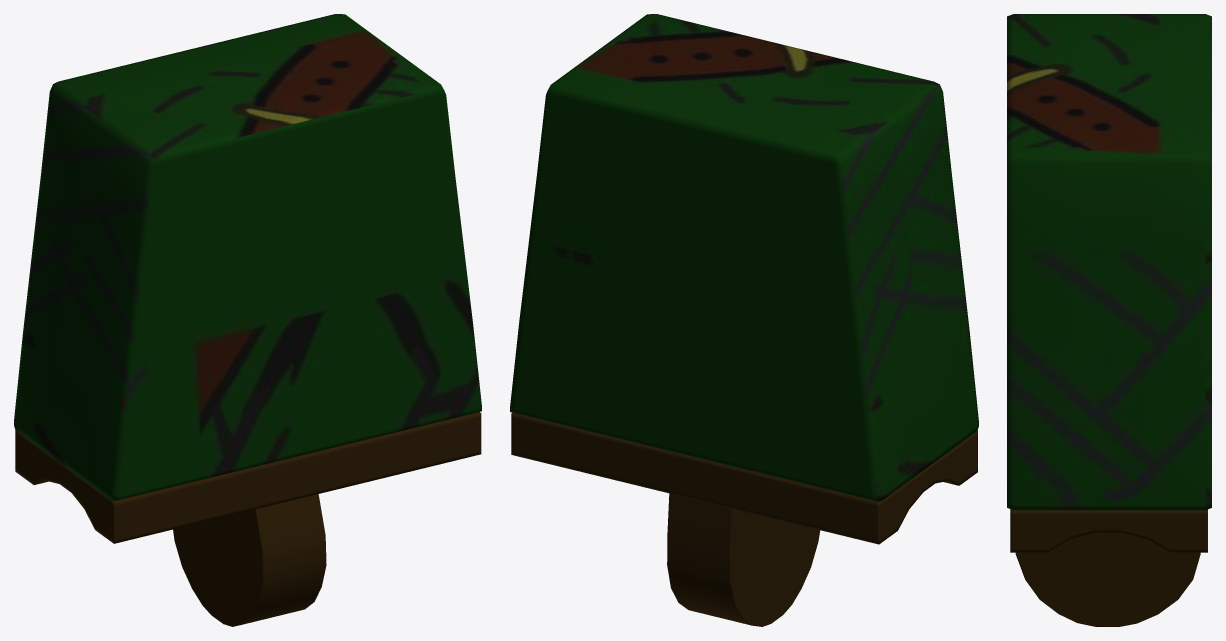
The model's file is elfo_pecho.obj.
3 renders of one model, left to right at view 1: azimuth 30°, elevation 25°; view 2: azimuth 150°, elevation 25°; view 3: azimuth 270°, elevation 25°, orthographic.
Visible parts, largest first — view 1: Mesh_Default.005_Mesh_Default.007; view 2: Mesh_Default.005_Mesh_Default.007; view 3: Mesh_Default.005_Mesh_Default.007.
Boxes of the visible parts, left/top/right/bottom form: Mesh_Default.005_Mesh_Default.007: left=14, top=14, right=481, bottom=626; Mesh_Default.005_Mesh_Default.007: left=510, top=14, right=978, bottom=626; Mesh_Default.005_Mesh_Default.007: left=1007, top=14, right=1211, bottom=626.
Bounding box in the file's own units: 2.21 × 3.02 × 1.06.
